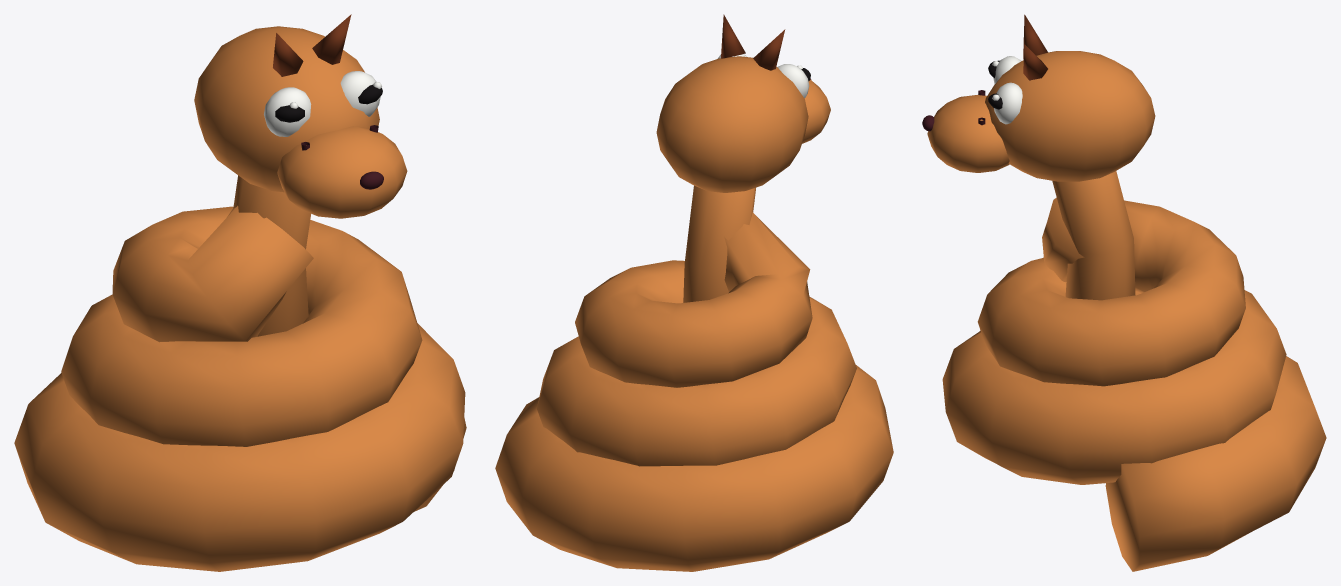
The model's file is 20_Hissler.glb.
3 renders of one model, left to right at view 1: azimuth 30°, elevation 25°; view 2: azimuth 150°, elevation 25°; view 3: azimuth 270°, elevation 25°, orthographic. The views are drawn at different scales.
Visible parts, largest first — view 1: body; view 2: body; view 3: body.
Boxes of the visible parts, box(x1,y1,x2,y2) form: body: box(14, 14, 466, 571); body: box(495, 14, 893, 571); body: box(922, 14, 1326, 571).
Bounding box in the file's own units: 0.868 × 1.12 × 0.8689.
